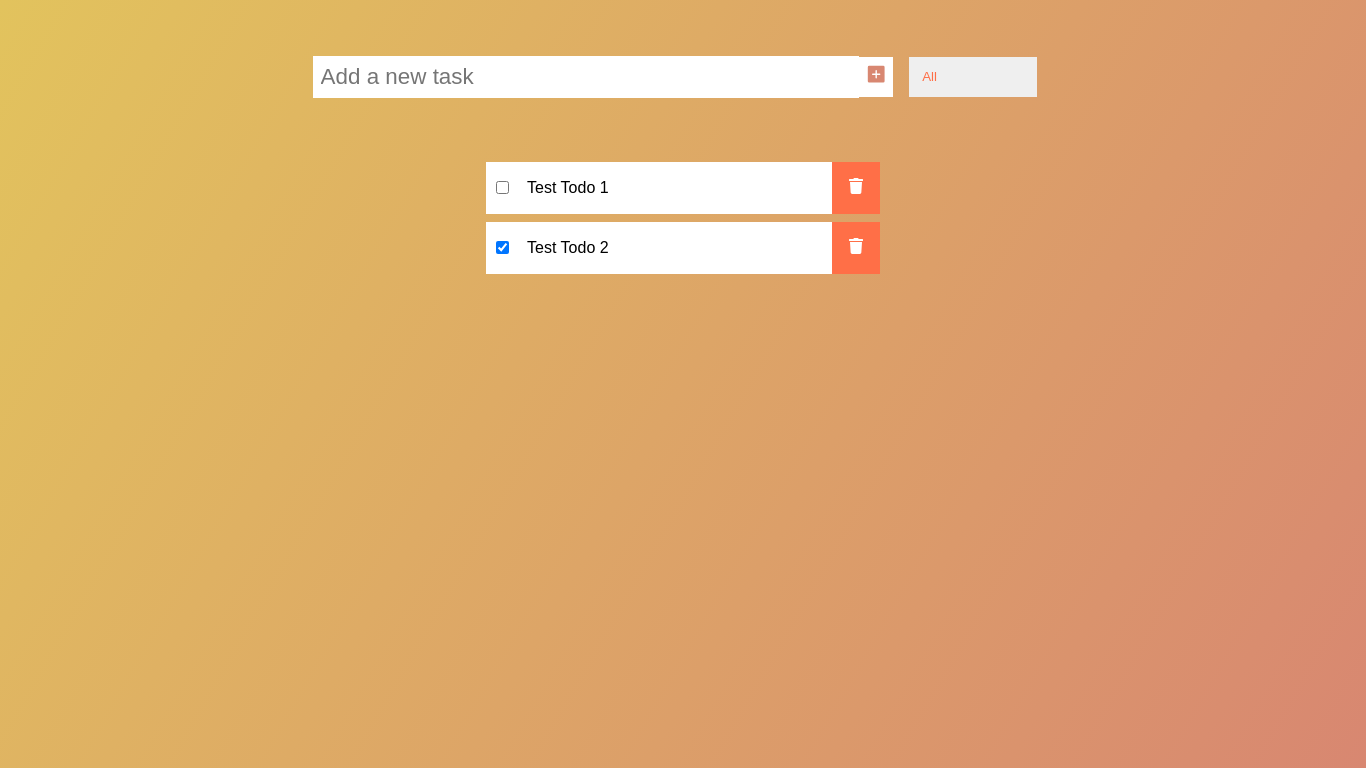
Test: TodoList Component › filters todos
Select "Completed" in the dropdown named "Filter" at point(973, 77), box left=909, top=56, right=1037, bottom=97
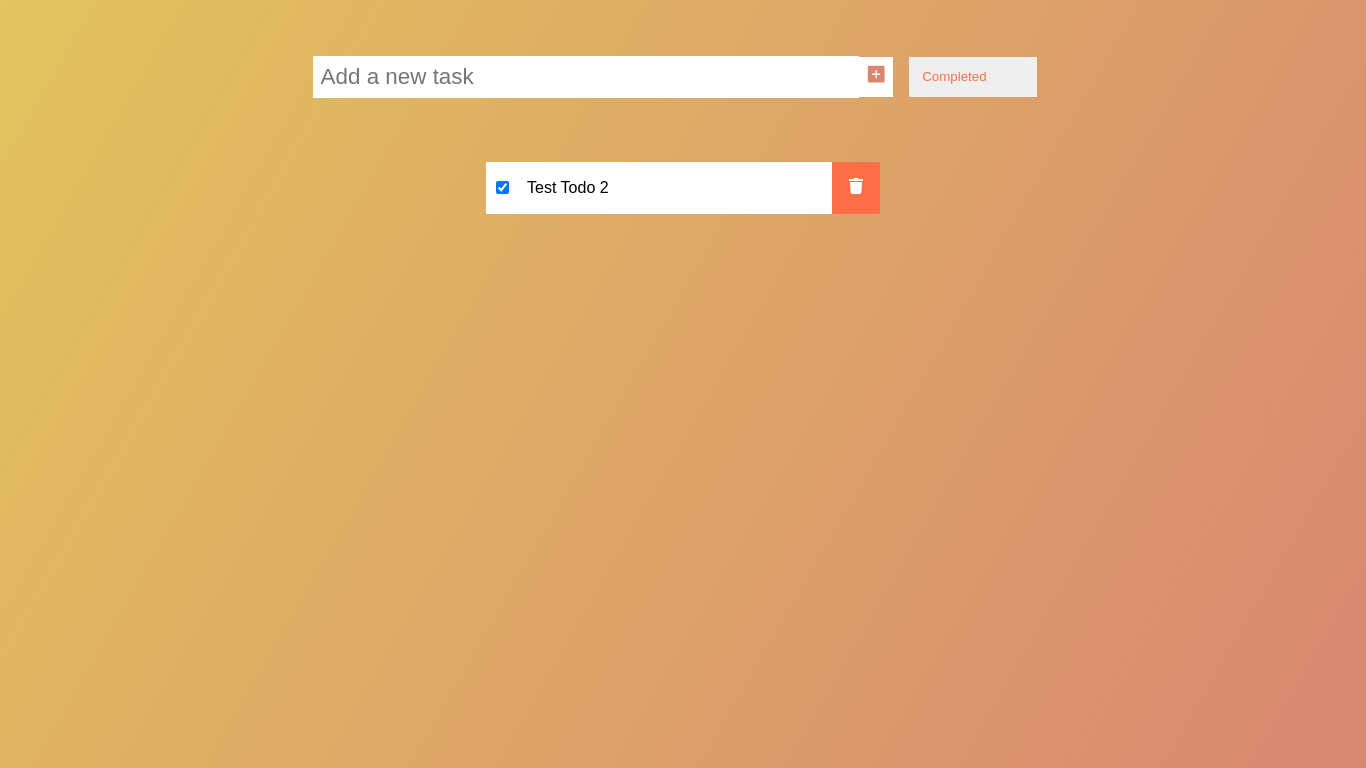
Expected: the list item "Test Todo 2" is shown, left=527, top=179, right=609, bottom=196
Result: the list item "Test Todo 1" is gone
